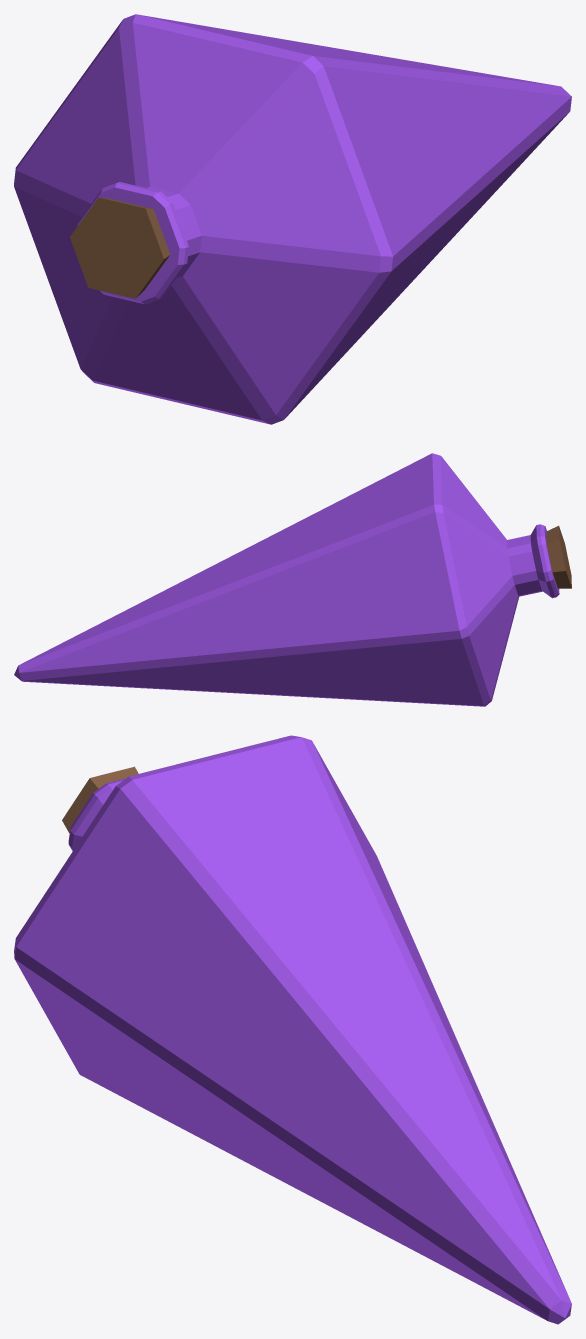
Rendered from Potion_01_Purple.fbx.
The picture shows the model from 3 angles, top to bottom: view 1: azimuth 30°, elevation 25°; view 2: azimuth 150°, elevation 25°; view 3: azimuth 270°, elevation 25°; orthographic projection. The views are drawn at different scales.
Visible parts, largest first — view 1: Cone.020, Cylinder.061, Cylinder.060; view 2: Cone.020, Cylinder.060, Cylinder.061; view 3: Cone.020, Cylinder.060, Cylinder.061.
Boxes of the visible parts, box(x1,y1,x2,y2) form: Cone.020: box(14, 14, 571, 424); Cylinder.061: box(70, 197, 170, 298); Cylinder.060: box(77, 182, 201, 304); Cone.020: box(14, 453, 518, 706); Cylinder.060: box(507, 524, 559, 598); Cylinder.061: box(546, 525, 571, 588); Cone.020: box(14, 735, 571, 1324); Cylinder.060: box(68, 778, 125, 851); Cylinder.061: box(62, 766, 138, 833).
Bounding box in the file's own units: 31.74 × 14.47 × 22.3.
